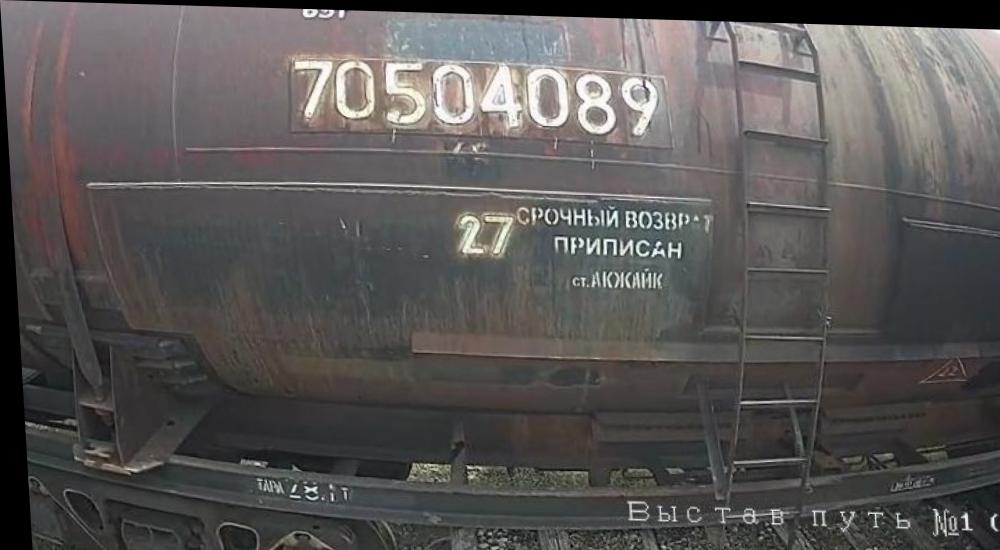Wagon-number: (289, 54, 662, 139)
